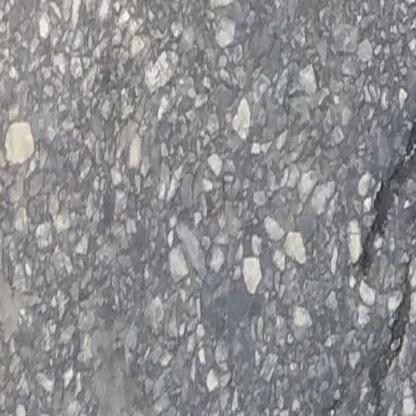Cracks: (358, 76, 416, 281), (366, 252, 416, 416)
